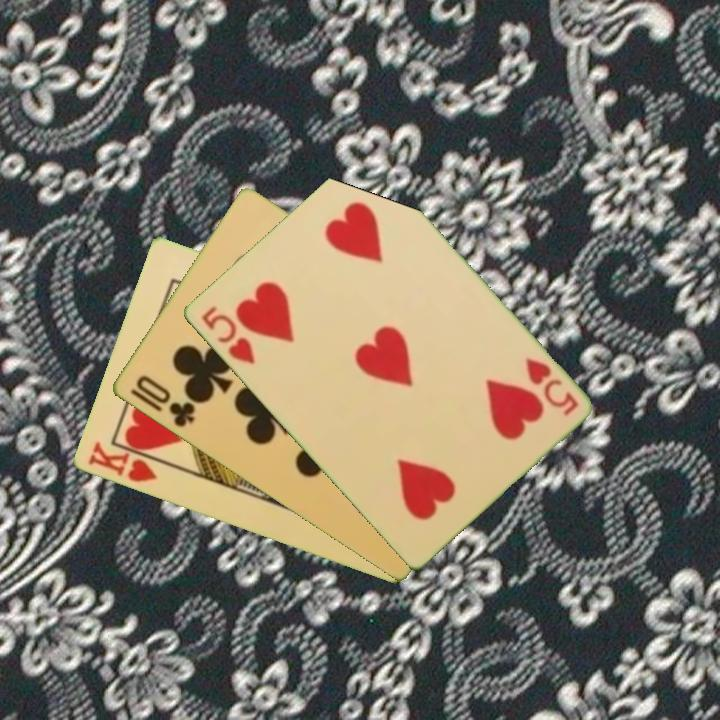10c: (131, 371, 198, 431)
5h: (197, 302, 258, 367), (520, 354, 581, 419)
Kh: (84, 438, 170, 486)
